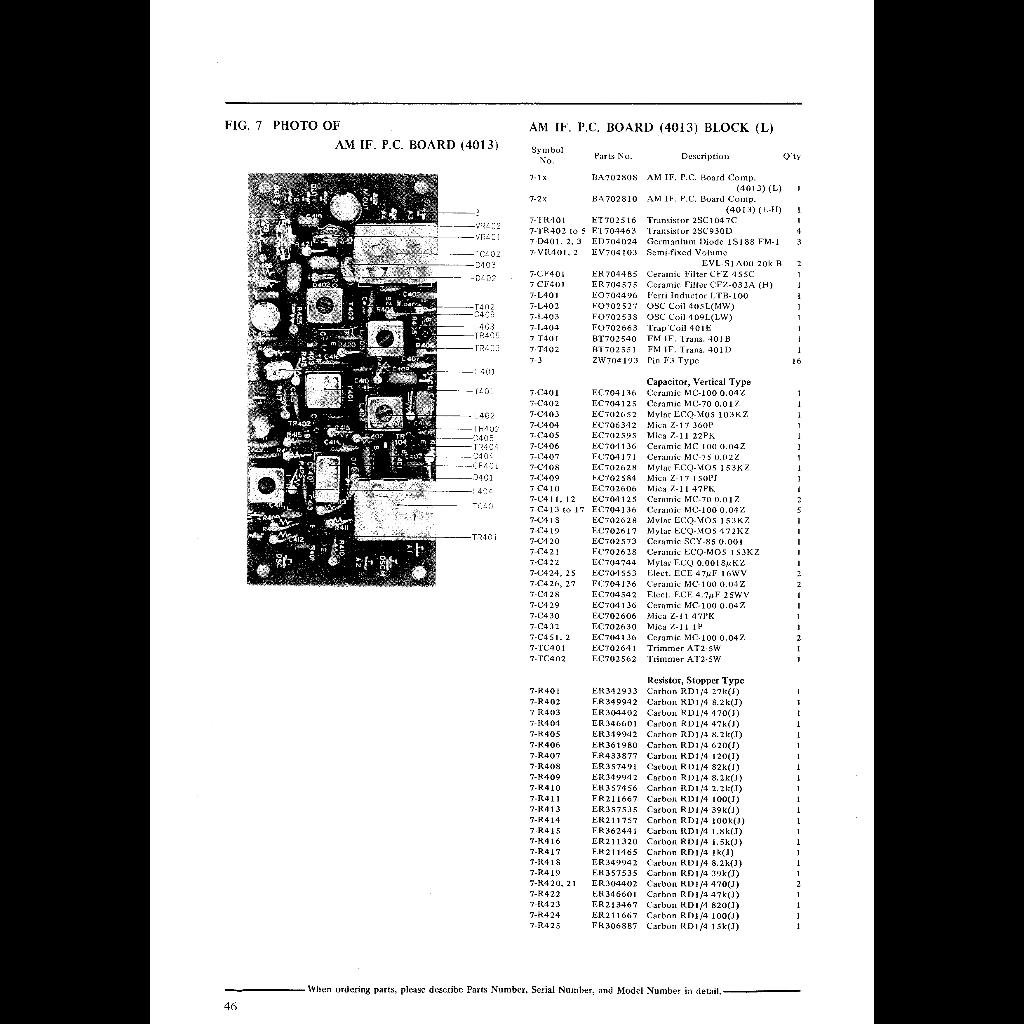Board: (240, 166, 502, 594)
Table: (524, 118, 812, 936)
